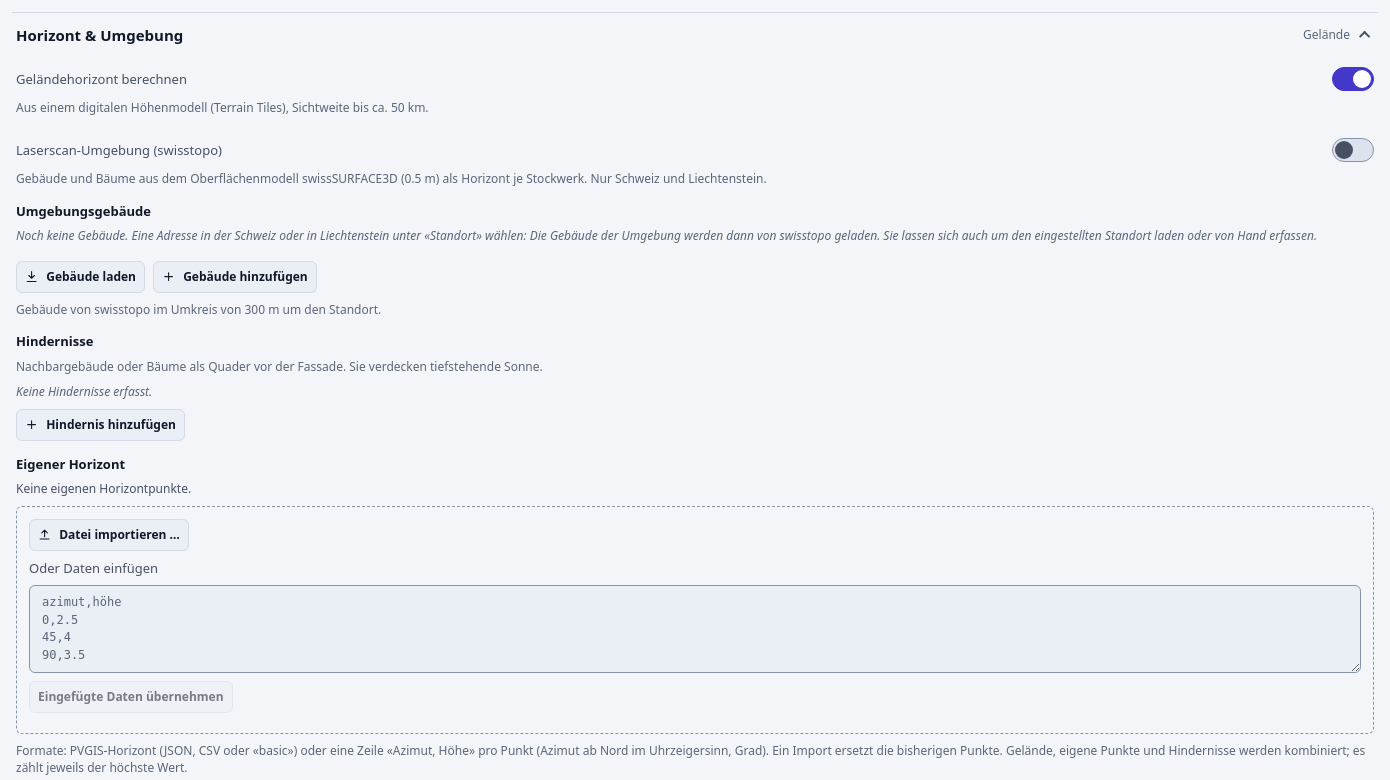
Test: HorizonSection › terrain › toggles the terrain horizon
Click the switch named "Geländehorizont berechnen" in the row of "Geländehorizont berechnen" at [1353, 79], box [1332,67,1374,91]
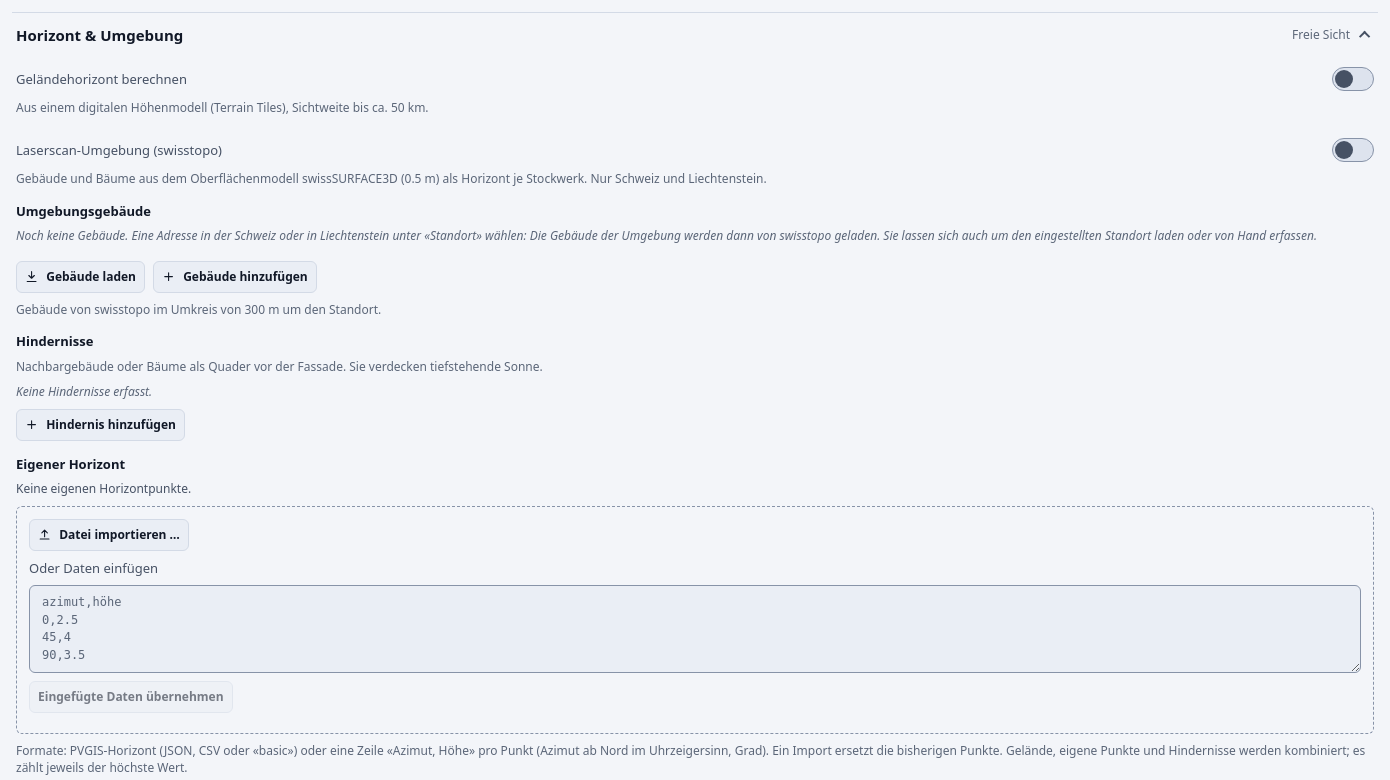
Now the button "Horizont & Umgebung Freie Sicht" is shown, box [12,13,1378,57]
